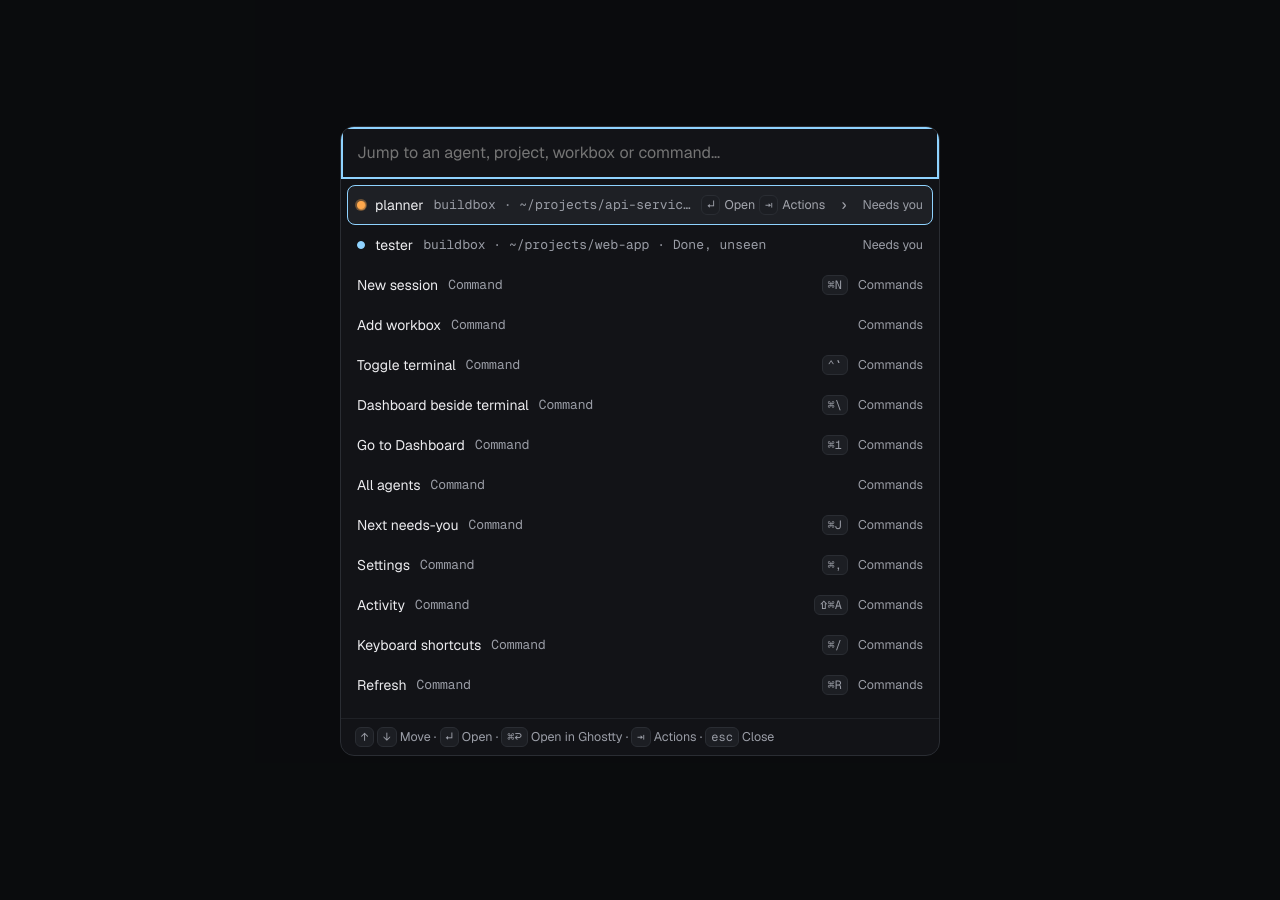
it: CommandPalette agent frame › tab_opens_the_agent_frame
The width and height of the screenshot is (1280, 900).
Type "tester" into the dropdown at (640, 153), box [341,127,939,179]
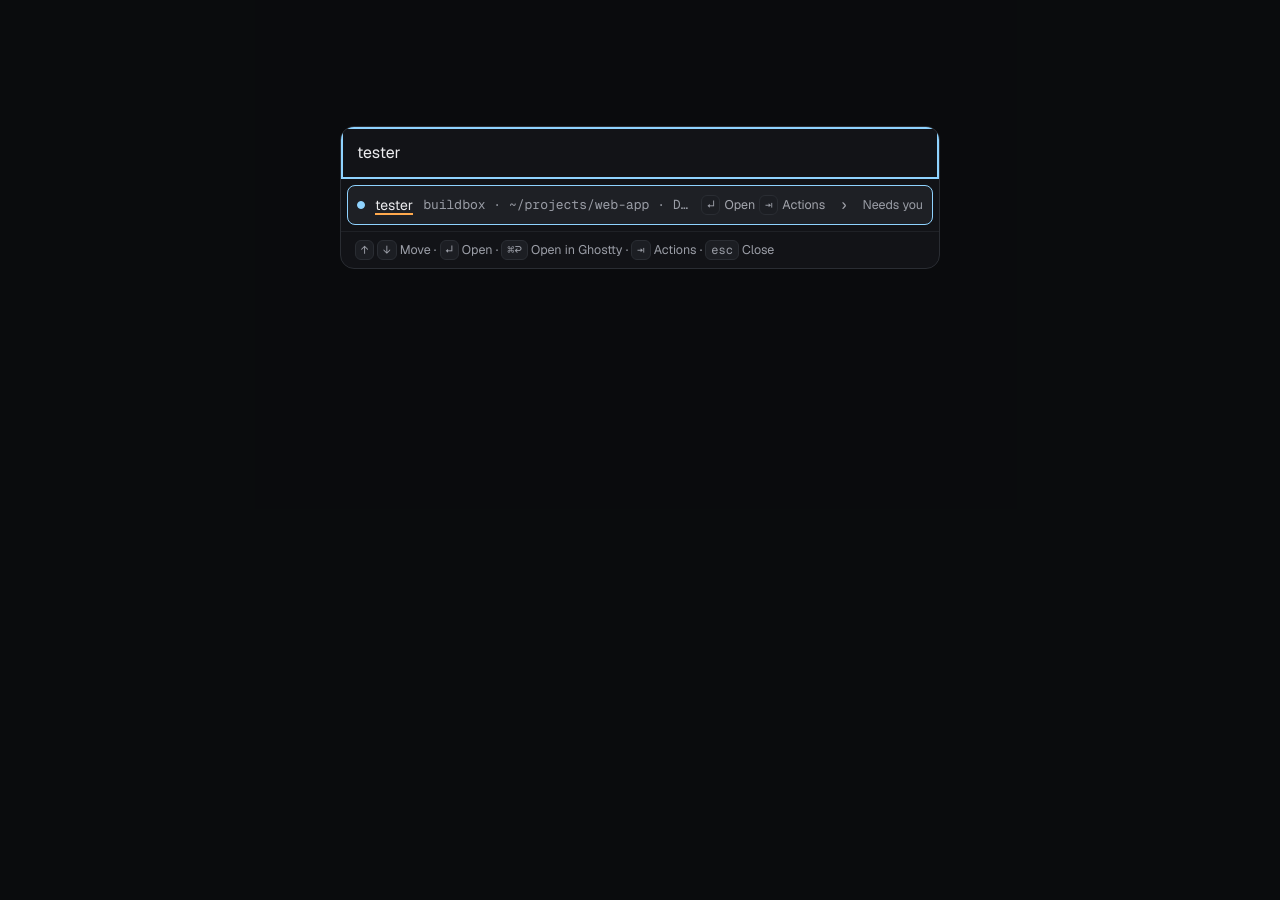
Expected: the text "tester" is shown, [375,196,413,214]
Press Tab
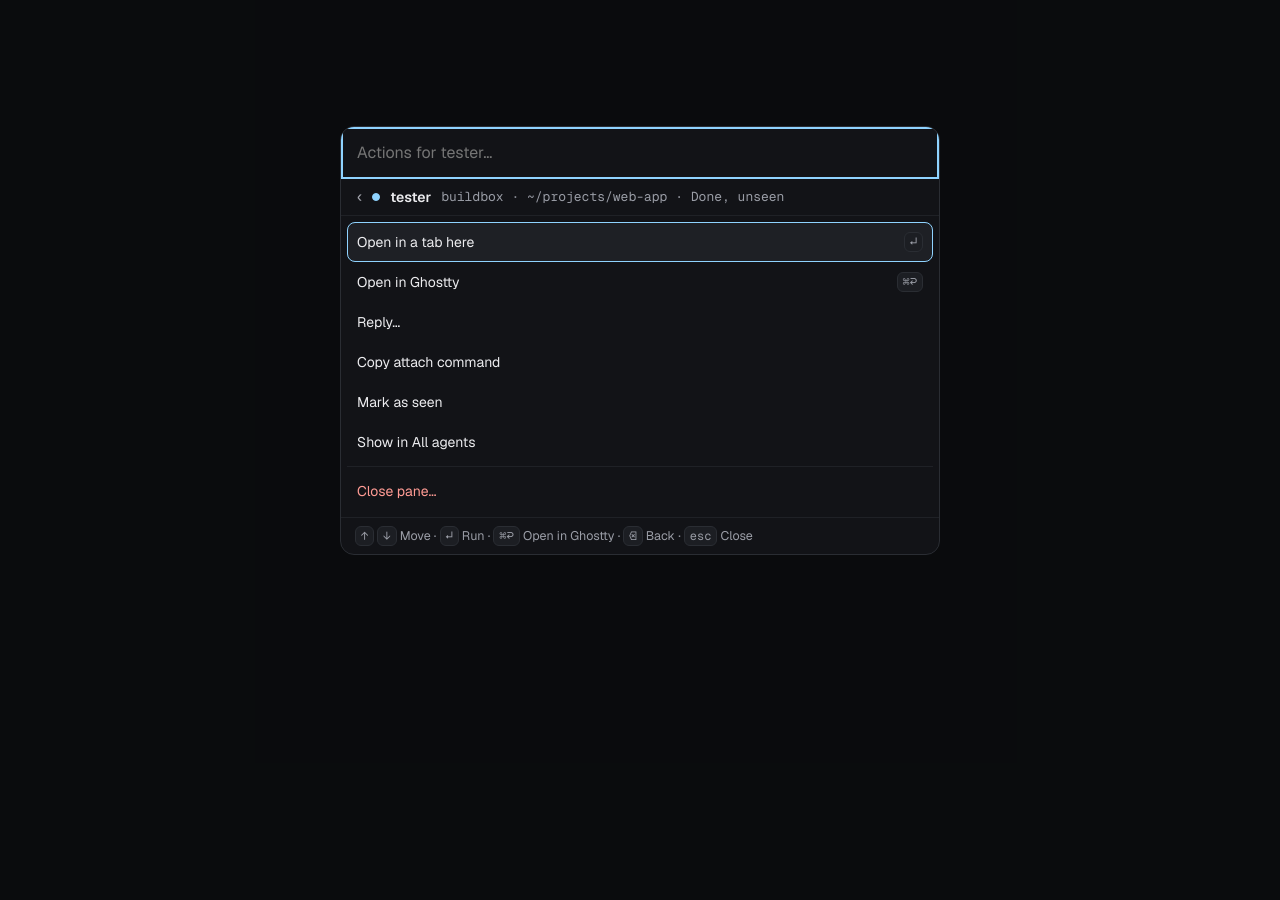
Now the element showing "‹ tester buildbox · ~/projects/web-app · Done, unseen" is shown, box [341,179,939,216]
Now the dropdown is empty, box [341,127,939,179]
